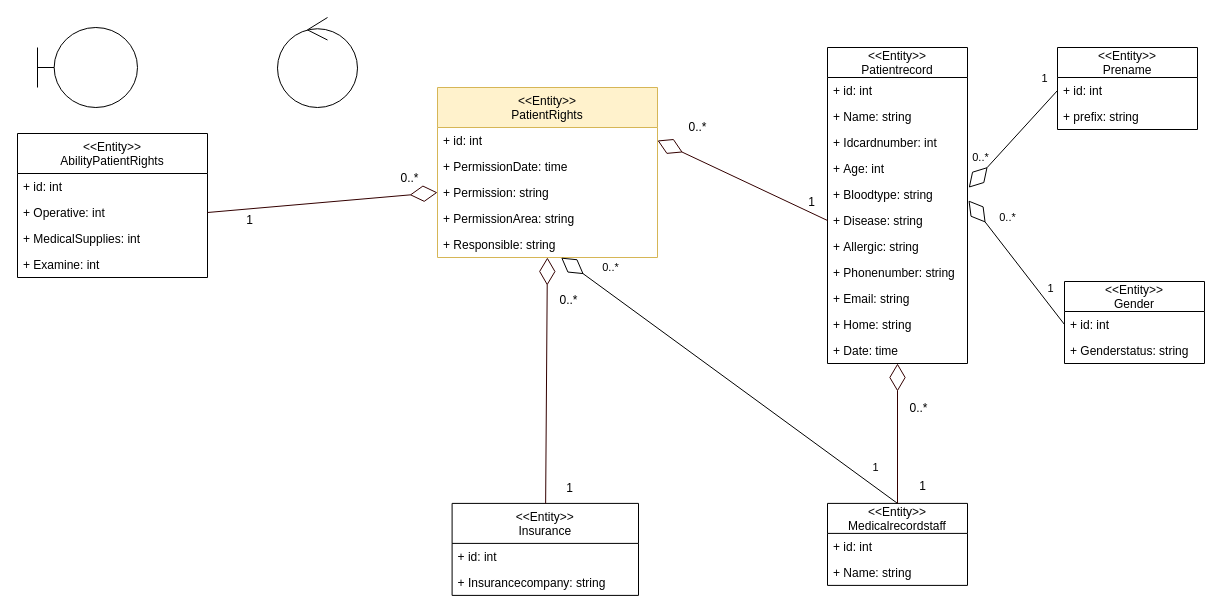
The diagram is 1222 pixels wide and 616 high, and some of its shapes have lost their labels. The box of each missing label's shape, as (x1, y1, x2, y2) in pixels:
Patientrights Controller: (276, 16, 358, 108)
Patientrights UI: (36, 26, 138, 108)
